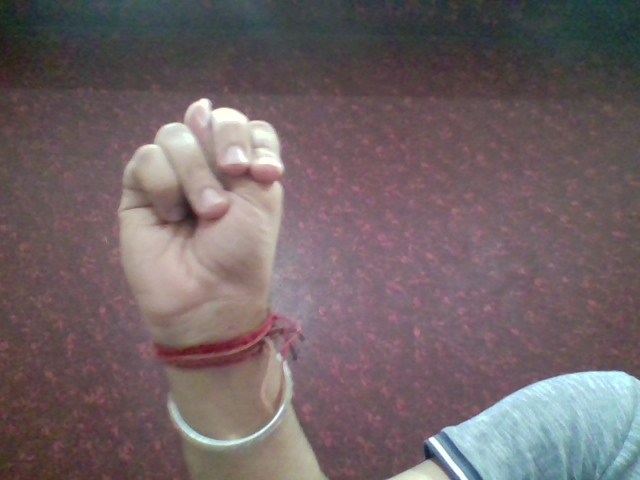n: (102, 90, 293, 337)
